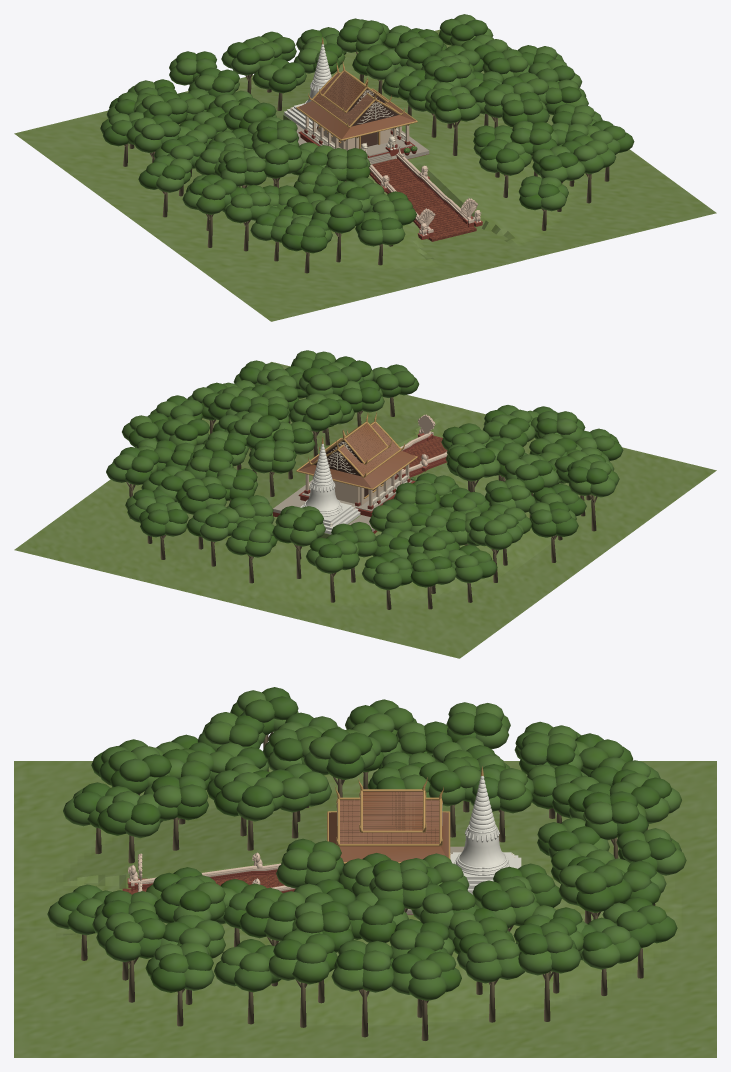
The model's file is ultra.glb.
3 views of the same model, one above another, from view 1: azimuth 30°, elevation 25°; view 2: azimuth 150°, elevation 25°; view 3: azimuth 270°, elevation 25° (orthographic). The views are drawn at different scales.
Parts seen in each view (by area): view 1: Batched Viewer V4 | green hill ground, Batched Viewer V4 | canopy 1, Batched Viewer V4 | canopy 2, Batched Viewer V4 | canopy 0, Batched Viewer V4 | aged brown orange roof, Batched Naga | weathered fired brick, Batched Viewer V4 | tree bark, Batched Naga | warm sandstone stucco, Batched Viewer V4 | weathered ochre ornament, Batched Viewer V4 | tile ribs, Batched Viewer V4 | worn warm paving, Batched Viewer V4 | stupa lime plaster (+3 smaller); view 2: Batched Viewer V4 | green hill ground, Batched Viewer V4 | canopy 0, Batched Viewer V4 | canopy 1, Batched Viewer V4 | canopy 2, Batched Viewer V4 | aged brown orange roof, Batched Viewer V4 | tree bark, Batched Viewer V4 | stupa lime plaster, Batched Viewer V4 | tile ribs, Batched Viewer V4 | weathered ochre ornament, Batched Viewer V4 | warm buff plaster, Batched Viewer V4 | worn warm paving, Batched Naga | warm sandstone stucco (+3 smaller); view 3: Batched Viewer V4 | green hill ground, Batched Viewer V4 | canopy 1, Batched Viewer V4 | canopy 2, Batched Viewer V4 | canopy 0, Batched Viewer V4 | aged brown orange roof, Batched Viewer V4 | tree bark, Batched Viewer V4 | tile ribs, Batched Viewer V4 | stupa lime plaster, Batched Viewer V4 | weathered ochre ornament, Batched Naga | warm sandstone stucco.
Part boxes in pixels (x1,y1,x2,y2): Batched Viewer V4 | green hill ground: [14, 29, 716, 321]; Batched Viewer V4 | canopy 1: [100, 18, 625, 242]; Batched Viewer V4 | canopy 2: [106, 14, 613, 246]; Batched Viewer V4 | canopy 0: [103, 19, 634, 253]; Batched Viewer V4 | aged brown orange roof: [298, 72, 415, 139]; Batched Naga | weathered fired brick: [372, 158, 476, 241]; Batched Viewer V4 | tree bark: [123, 51, 609, 273]; Batched Naga | warm sandstone stucco: [367, 146, 481, 235]; Batched Viewer V4 | weathered ochre ornament: [291, 37, 417, 151]; Batched Viewer V4 | tile ribs: [314, 72, 391, 125]; Batched Viewer V4 | worn warm paving: [296, 124, 429, 164]; Batched Viewer V4 | stupa lime plaster: [284, 44, 331, 129]; Batched Viewer V4 | green hill ground: [14, 362, 716, 658]; Batched Viewer V4 | canopy 0: [119, 356, 623, 587]; Batched Viewer V4 | canopy 1: [106, 357, 619, 590]; Batched Viewer V4 | canopy 2: [112, 350, 616, 584]; Batched Viewer V4 | aged brown orange roof: [298, 423, 415, 488]; Batched Viewer V4 | tree bark: [126, 397, 597, 609]; Batched Viewer V4 | stupa lime plaster: [300, 444, 360, 534]; Batched Viewer V4 | tile ribs: [326, 423, 398, 474]; Batched Viewer V4 | weathered ochre ornament: [296, 412, 417, 498]; Batched Viewer V4 | warm buff plaster: [305, 464, 409, 506]; Batched Viewer V4 | worn warm paving: [273, 477, 412, 531]; Batched Naga | warm sandstone stucco: [396, 414, 447, 474]; Batched Viewer V4 | green hill ground: [14, 761, 716, 1057]; Batched Viewer V4 | canopy 1: [67, 699, 681, 1000]; Batched Viewer V4 | canopy 2: [47, 690, 686, 994]; Batched Viewer V4 | canopy 0: [58, 687, 677, 992]; Batched Viewer V4 | aged brown orange roof: [329, 792, 448, 861]; Batched Viewer V4 | tree bark: [81, 732, 655, 1040]; Batched Viewer V4 | tile ribs: [340, 791, 439, 843]; Batched Viewer V4 | stupa lime plaster: [450, 776, 521, 894]; Batched Viewer V4 | weathered ochre ornament: [327, 766, 483, 863]; Batched Naga | warm sandstone stucco: [128, 852, 294, 891].
Size of the model in its own units: 34 by 7.66 by 34.
19 materials, 1 textured.
